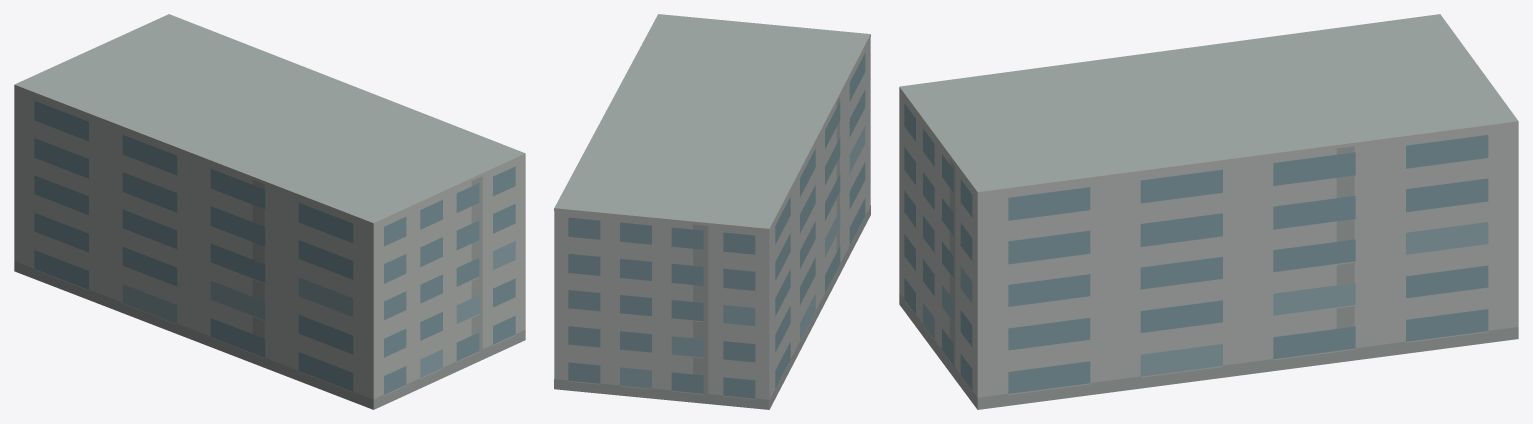
File: residential-f6b8fd55-447e-4bee-adda-4a66c149d9ec.glb
3 views of the same model, side by side, from view 1: azimuth 30°, elevation 25°; view 2: azimuth 150°, elevation 25°; view 3: azimuth 270°, elevation 25° (orthographic). The views are drawn at different scales.
Parts seen in each view (by area): view 1: residential-f6b8fd55-447e-4bee-adda-4a66c149d9ec.tmp; view 2: residential-f6b8fd55-447e-4bee-adda-4a66c149d9ec.tmp; view 3: residential-f6b8fd55-447e-4bee-adda-4a66c149d9ec.tmp.
Boxes of the visible parts, box(x1,y1,x2,y2) form: residential-f6b8fd55-447e-4bee-adda-4a66c149d9ec.tmp: box(14, 14, 525, 409); residential-f6b8fd55-447e-4bee-adda-4a66c149d9ec.tmp: box(554, 14, 870, 409); residential-f6b8fd55-447e-4bee-adda-4a66c149d9ec.tmp: box(899, 14, 1518, 409).
Bounding box in the file's own units: 26.78 × 15.25 × 39.33.
